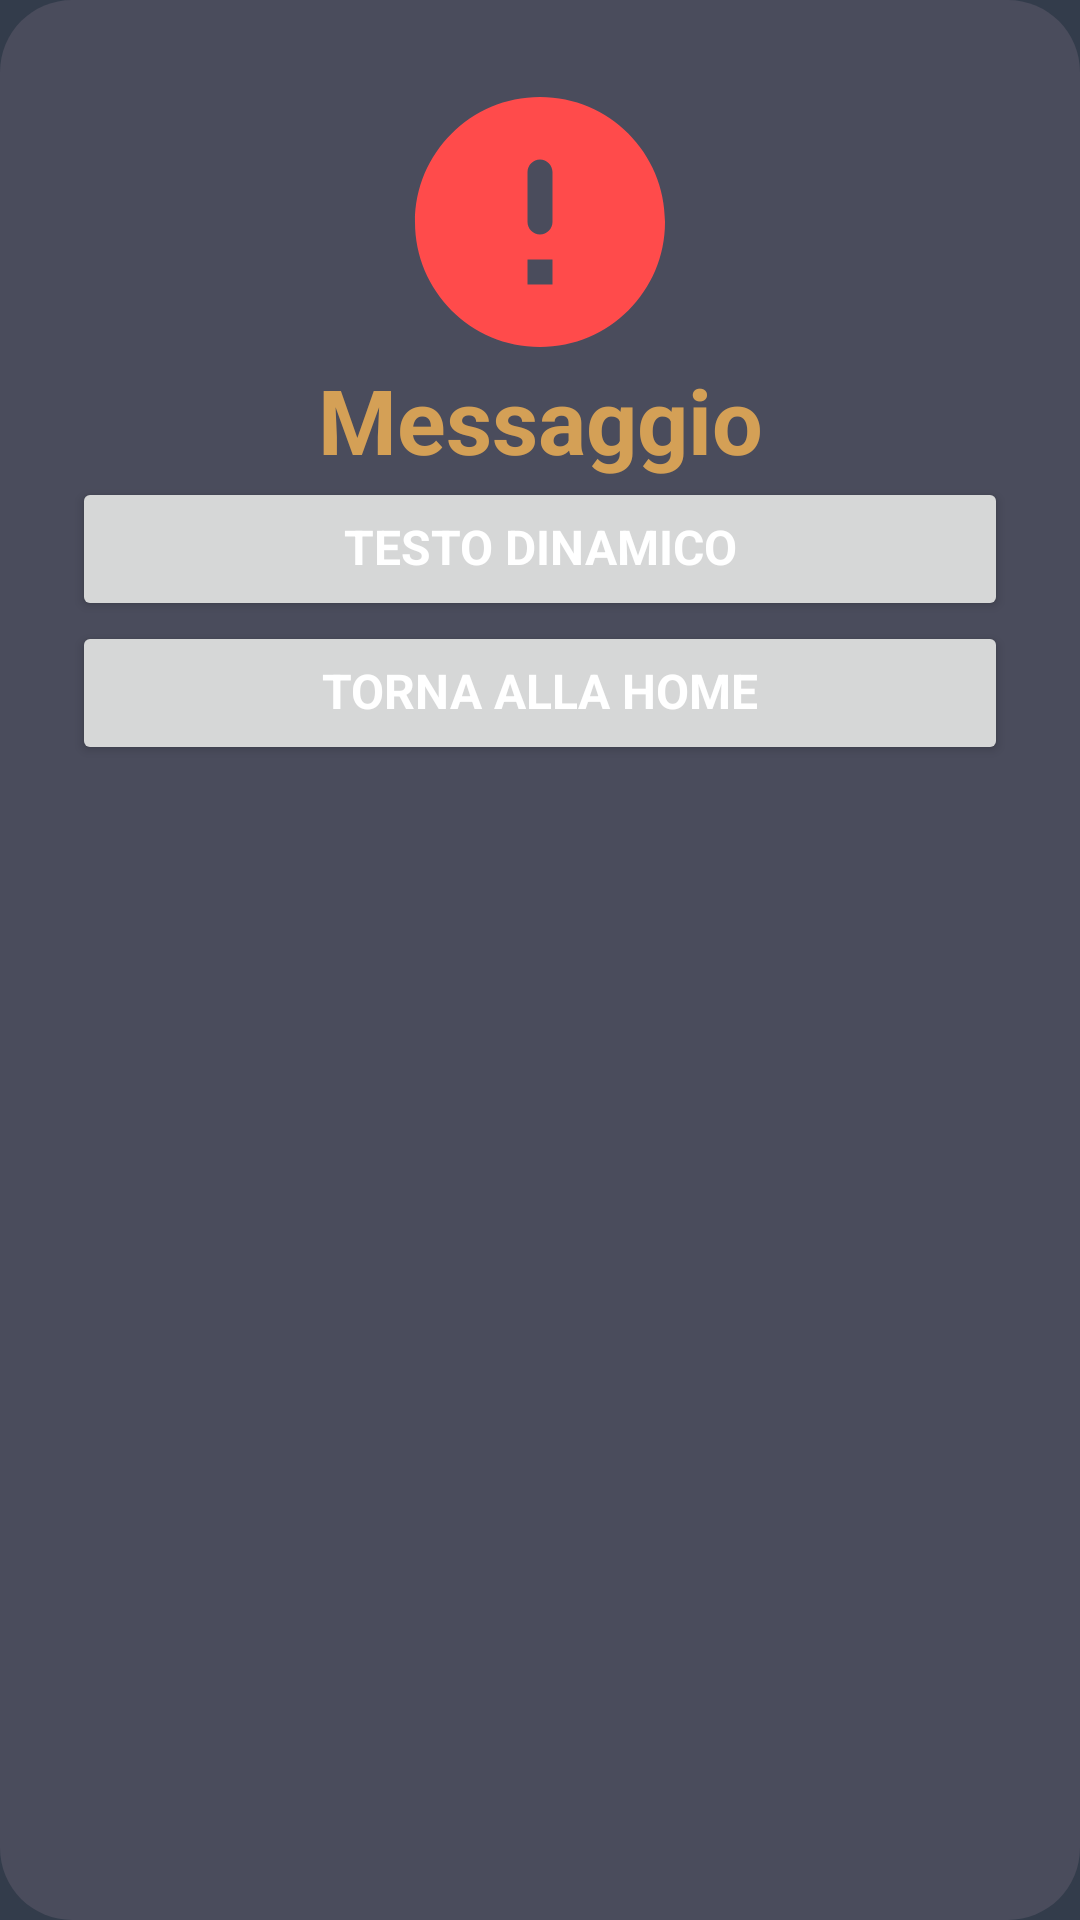

Point at icon controls on the screen. Image size 1080w x 1920h, points as point (x, y).
error: point (540, 222)
